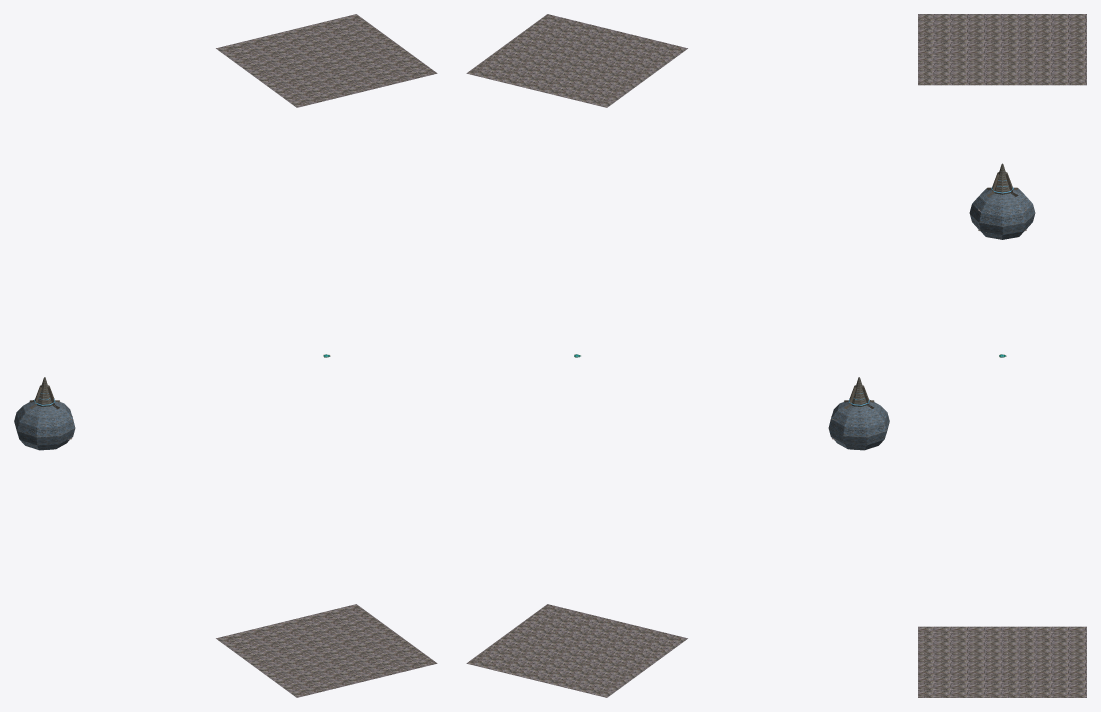
The model's file is boss-gol-dragon.obj.
3 renders of one model, left to right at view 1: azimuth 30°, elevation 25°; view 2: azimuth 150°, elevation 25°; view 3: azimuth 270°, elevation 25°, orthographic. The views are drawn at different scales.
Parts seen in each view (by area): view 1: mesh_161, mesh_103, mesh_146; view 2: mesh_161, mesh_103, mesh_146; view 3: mesh_161, mesh_103, mesh_146.
Boxes of the visible parts, box(x1,y1,x2,y2) form: mesh_161: box(216, 14, 437, 697); mesh_103: box(14, 400, 75, 437); mesh_146: box(15, 425, 75, 450); mesh_161: box(466, 14, 687, 697); mesh_103: box(828, 400, 889, 437); mesh_146: box(828, 425, 888, 450); mesh_161: box(918, 14, 1086, 697); mesh_103: box(969, 189, 1035, 226); mesh_146: box(969, 213, 1035, 239).
Size of the model in its own units: 13476 by 20000 by 5000.
Materials: 46 (46 with a texture image).
